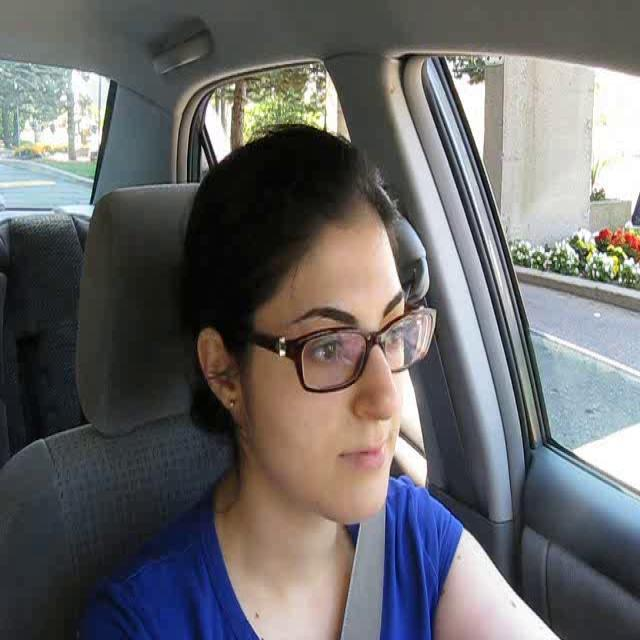close: (339, 436, 390, 476)
